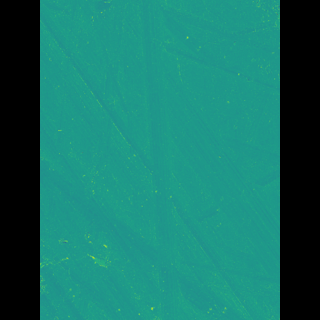Loch: (100, 0, 250, 285), (144, 0, 181, 320), (104, 239, 129, 280)
